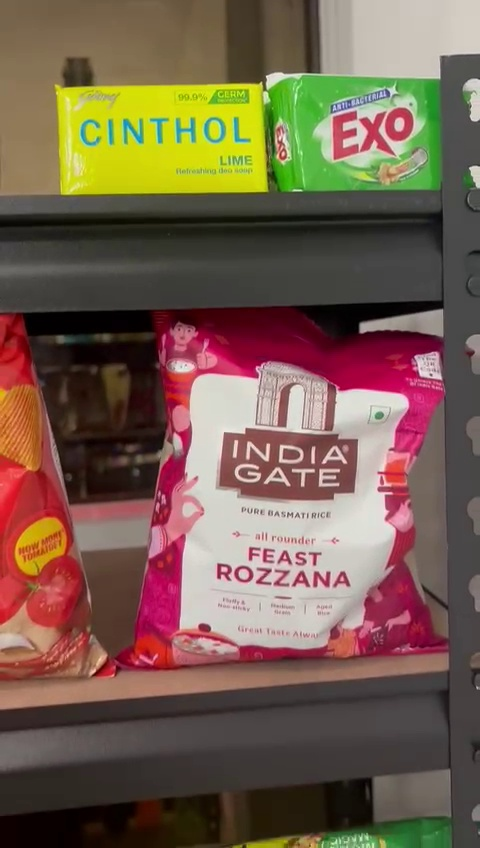Cinthol: (58, 85, 266, 188)
Exo Soap: (270, 78, 442, 188)
India Gate Feast Rozzana: (153, 322, 444, 662)
